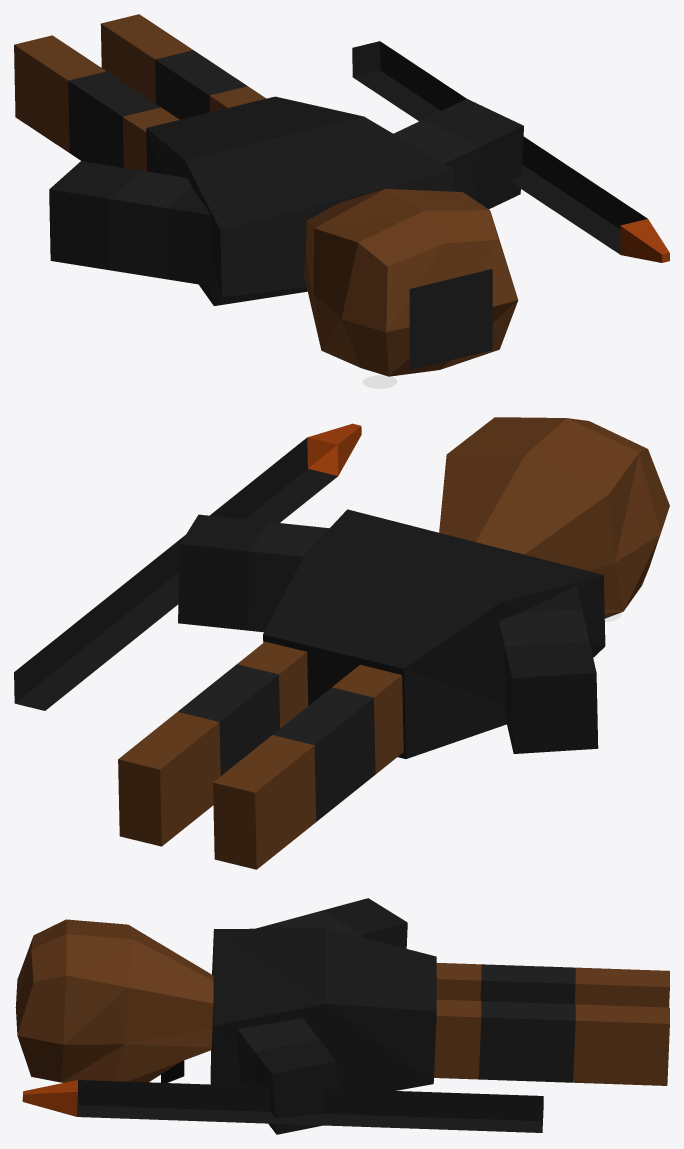
The model's file is spearman3d.obj.
3 views of the same model, one above another, from view 1: azimuth 30°, elevation 25°; view 2: azimuth 150°, elevation 25°; view 3: azimuth 270°, elevation 25° (orthographic). The views are drawn at different scales.
Parts seen in each view (by area): view 1: Cube.001, Cube, Cube.003, Cube.004, Cube.007, Cube.005, Cube.002, Plane.002; view 2: Cube.001, Cube, Cube.004, Cube.005, Cube.007, Cube.003, Cube.002; view 3: Cube.001, Cube, Cube.005, Cube.007, Cube.004, Cube.002, Cube.003.
Part boxes in pixels (x1,y1,x2,y2): Cube.001: (146,96,454,305); Cube: (304,188,518,376); Cube.003: (49,161,216,287); Cube.004: (14,35,179,171); Cube.007: (352,41,669,262); Cube.005: (100,14,266,119); Cube.002: (393,99,523,209); Plane.002: (409,269,492,369); Cube.001: (263,509,605,758); Cube: (439,417,669,618); Cube.004: (213,665,403,869); Cube.005: (118,641,308,846); Cube.007: (14,423,361,710); Cube.003: (499,586,598,753); Cube.002: (178,514,329,632); Cube.001: (210,928,436,1090); Cube: (15,919,213,1082); Cube.005: (434,999,669,1085); Cube.007: (22,1080,543,1132); Cube.004: (436,963,669,1007); Cube.002: (237,1018,338,1134); Cube.003: (256,898,407,948).
Bounding box in the file's own units: 3.88 × 1.6 × 5.88.
